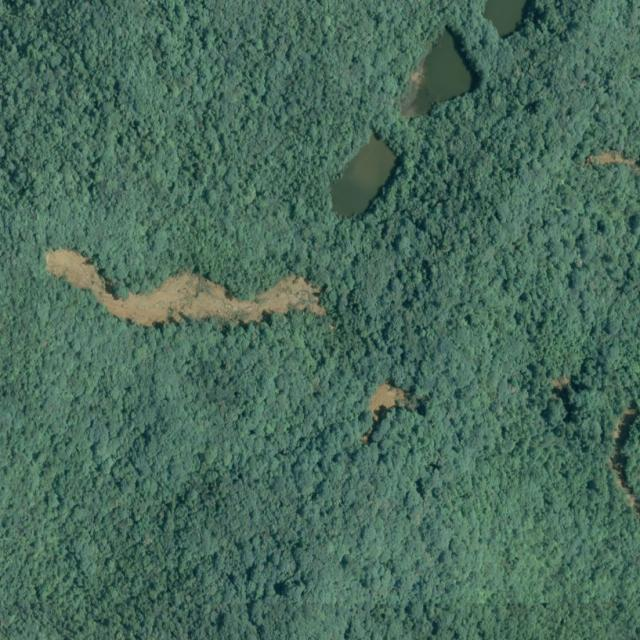landslide: (45, 249, 326, 326)
